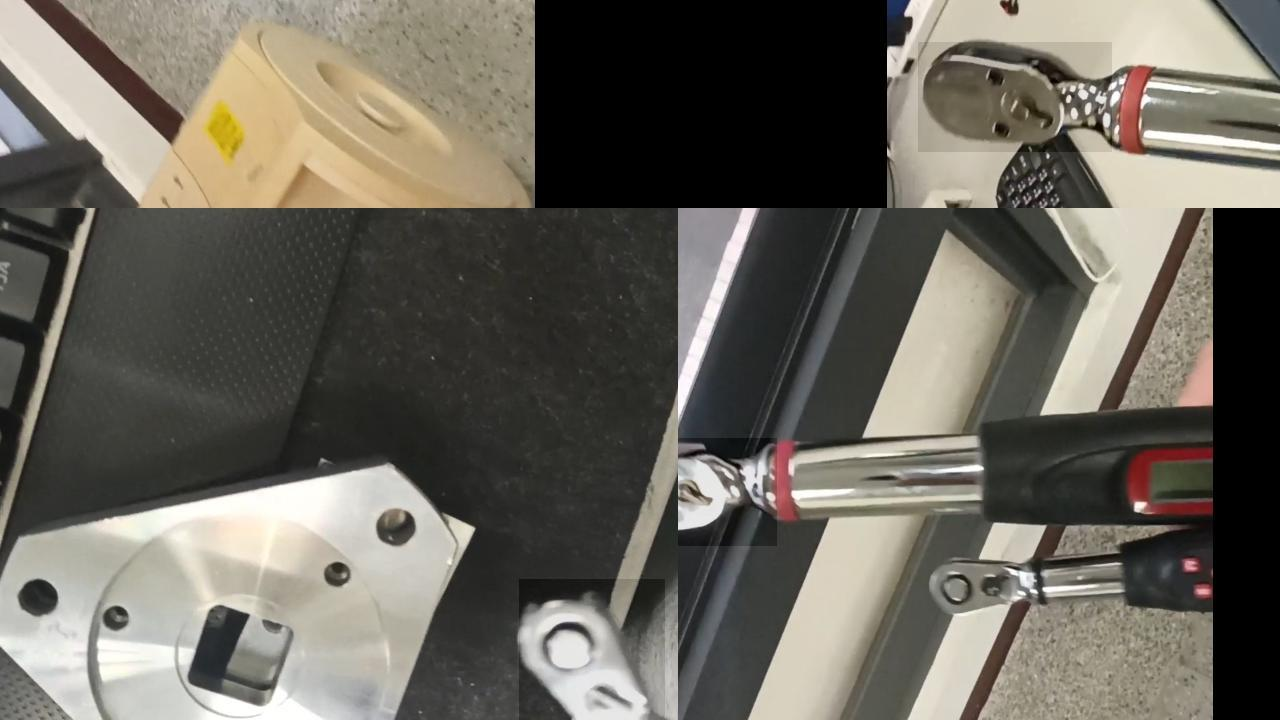Tool: (918, 41, 1112, 151), (519, 578, 665, 720), (678, 437, 777, 545), (926, 556, 1036, 620)
